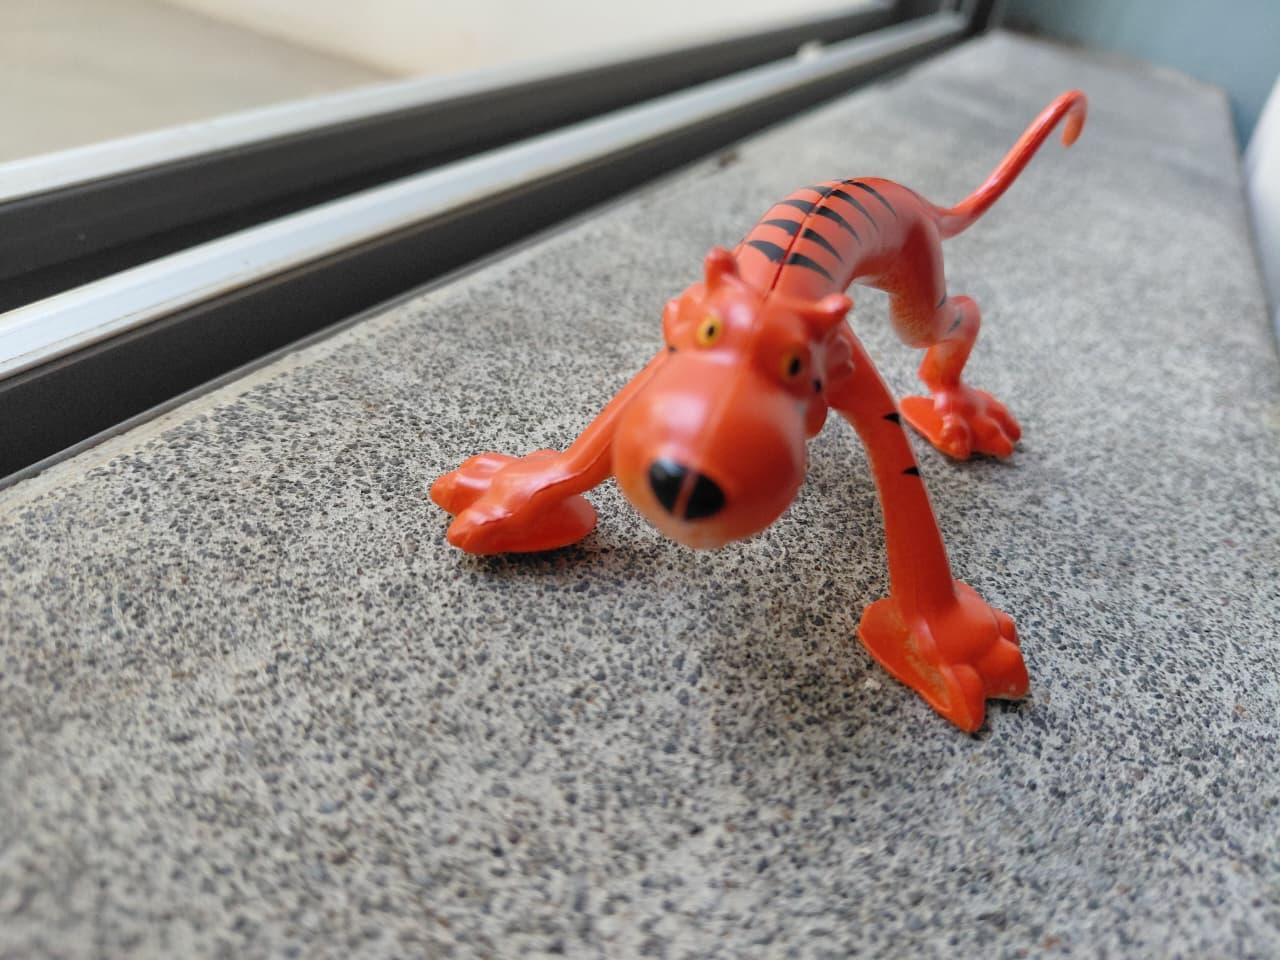tiger: (382, 73, 1184, 738)
